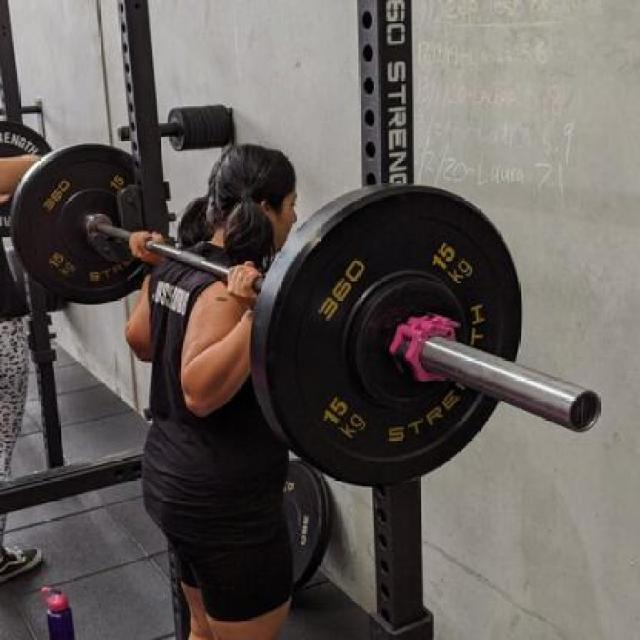Barbell: (565, 388, 604, 436)
